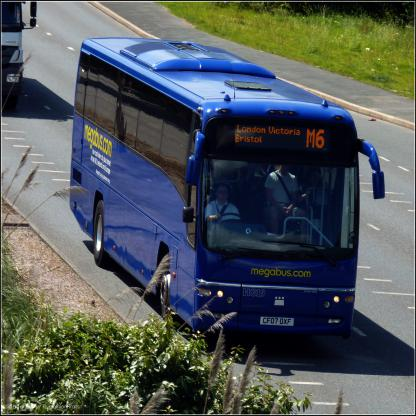Bus: (65, 37, 386, 340), (3, 0, 37, 105)
